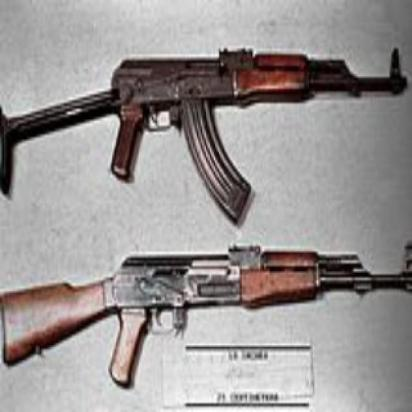Gun: (0, 33, 409, 220), (1, 232, 411, 388)
